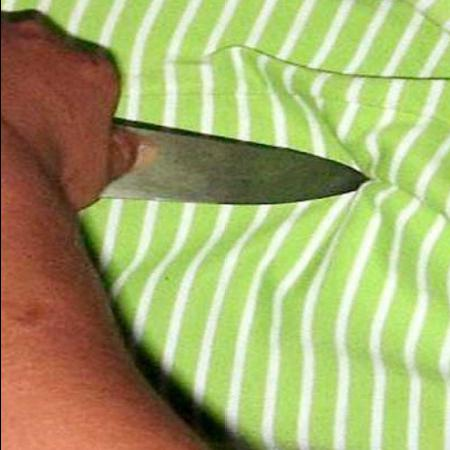long weapon: (1, 7, 381, 217)
